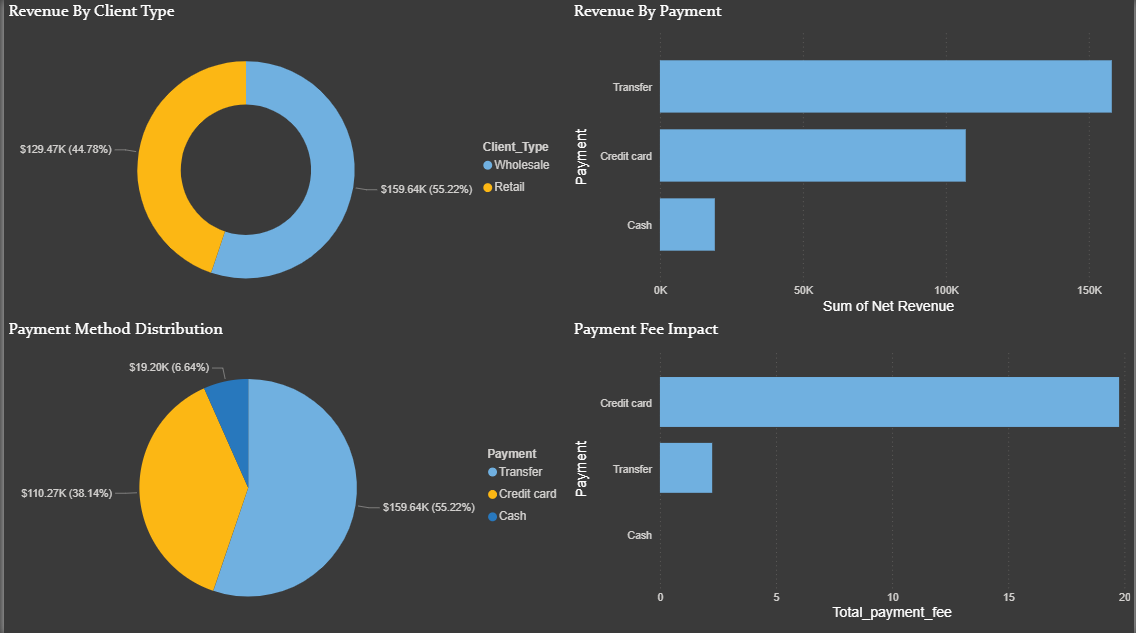

Layout of this report page (visuals, bound fields, positions):
{"tool":"powerbi","page":{"name":"Customer & Payment Insights","canvas":[1280,720],"ordinal":2},"visuals":[{"type":"donutChart","title":"Revenue By Client Type","fields":{"Category":["sales.Client_Type"],"Y":["Sum(sales.Total)"]},"box":[0,0,640,360],"z":0},{"type":"pieChart","title":"Payment Method Distribution ","fields":{"Category":["sales.Payment"],"Y":["Sum(sales.Total)"]},"box":[0,360,640,360],"z":1000},{"type":"barChart","title":"Revenue By Payment","fields":{"Category":["sales.Payment"],"Y":["Sum(sales.Net Revenue)"]},"box":[640,0,640,360],"z":2000},{"type":"barChart","title":"Payment Fee Impact","fields":{"Category":["sales.Payment"],"Y":["sales.Total_payment_fee"]},"box":[640,360,640,347.1],"z":3000}]}

Visuals, with their boxes in screenshot pixels (x1, y1, x2, y2), scaled from the page's 1280x720 canvas onto the 1136x633 screenshot:
"Revenue By Client Type" donutChart: {"x1": 0, "y1": 0, "x2": 568, "y2": 316}
"Payment Method Distribution " pieChart: {"x1": 0, "y1": 316, "x2": 568, "y2": 632}
"Revenue By Payment" barChart: {"x1": 568, "y1": 0, "x2": 1135, "y2": 316}
"Payment Fee Impact" barChart: {"x1": 568, "y1": 316, "x2": 1135, "y2": 622}
